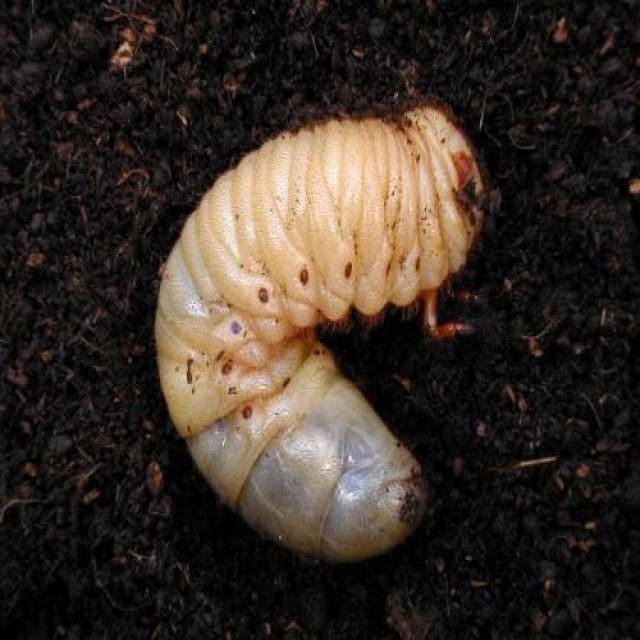Grub-Adult-: (126, 82, 518, 565)
